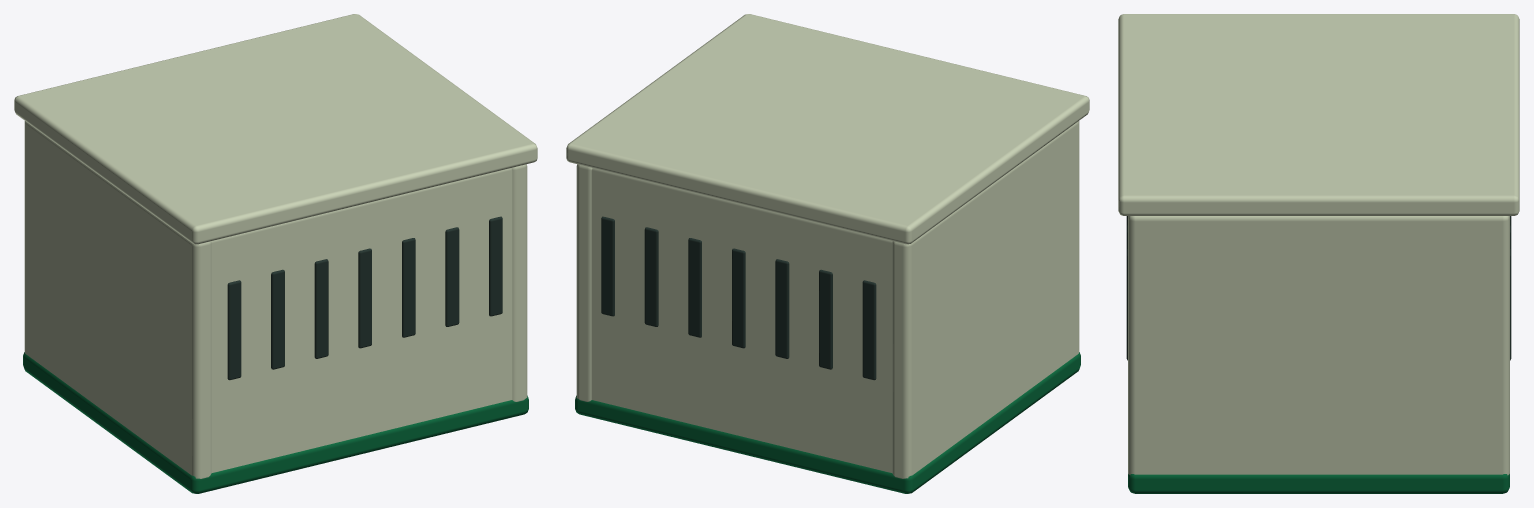
File: juice-bin.glb
3 renders of one model, left to right at view 1: azimuth 30°, elevation 25°; view 2: azimuth 150°, elevation 25°; view 3: azimuth 270°, elevation 25°, orthographic. The views are drawn at different scales.
Parts seen in each view (by area): view 1: ReusableJuiceBin; view 2: ReusableJuiceBin; view 3: ReusableJuiceBin.
Boxes of the visible parts, x1,y1,x2,y2 form: ReusableJuiceBin: (14,14,537,493); ReusableJuiceBin: (566,14,1089,493); ReusableJuiceBin: (1118,14,1519,493).
Bounding box in the file's own units: 2.3 × 1.74 × 2.1.
